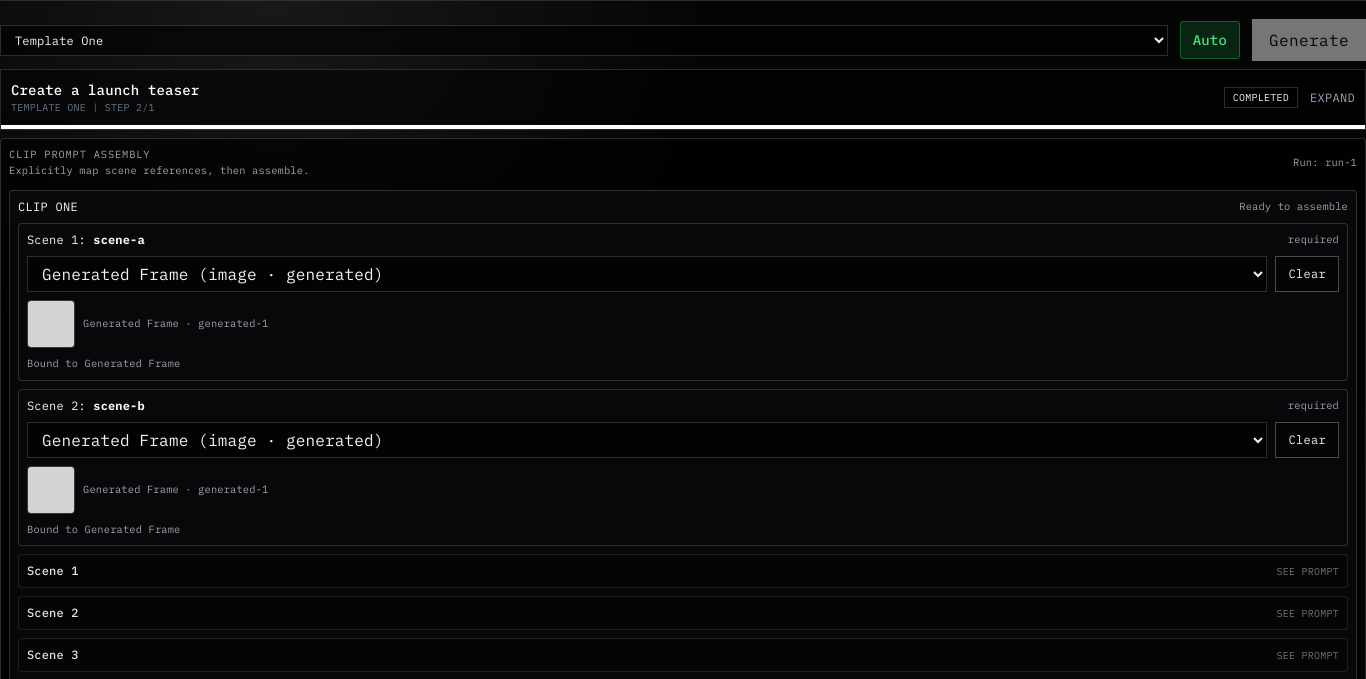
IdeaGeneratorPanel explicit clip assembly › applies backend missing-reference feedback per scene and keeps progression blocked
Check: the element with test id "scene-row-scene-b-2" is shown, box [18,389,1348,546]
Step 1. Select "Library Hero (image · library)" in the dropdown named "Scene scene-b reference" → (647, 440), box [27,422,1268,458]
(page scrolled)
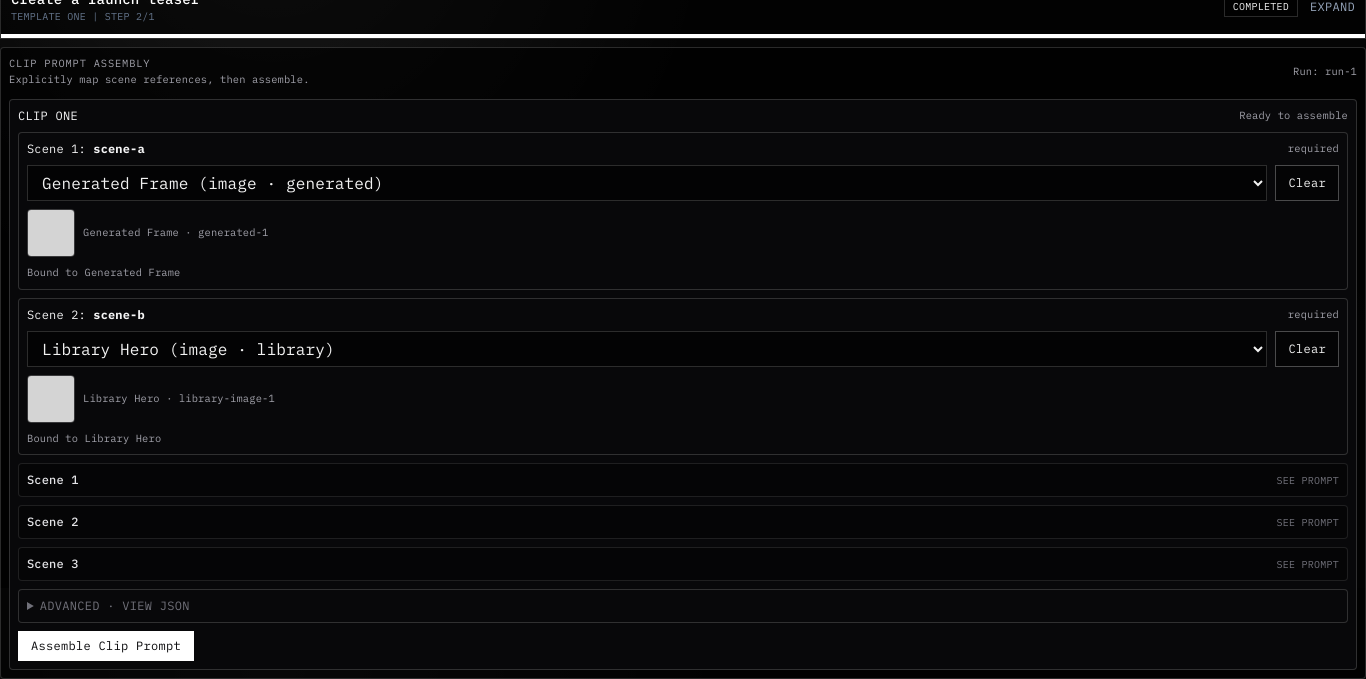
Step 2. Click the button "Assemble Clip Prompt" → (106, 646), box [18,631,194,661]
(page scrolled)
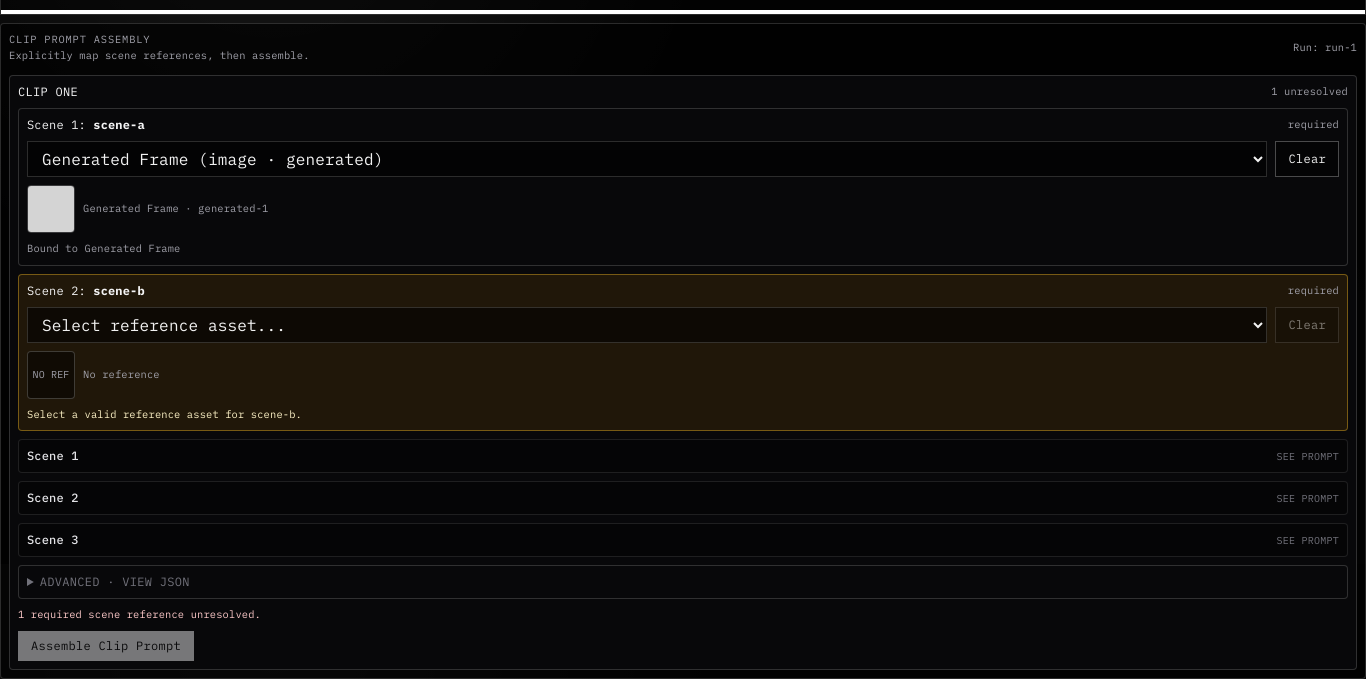
Check: the text "1 required scene reference unresolved." is shown, box [18,607,261,621]
Check: the text "Select a valid reference asset for scene-b." is shown, box [27,407,302,421]
Check: the button "Assemble Clip Prompt" is disabled, box [18,631,194,661]
